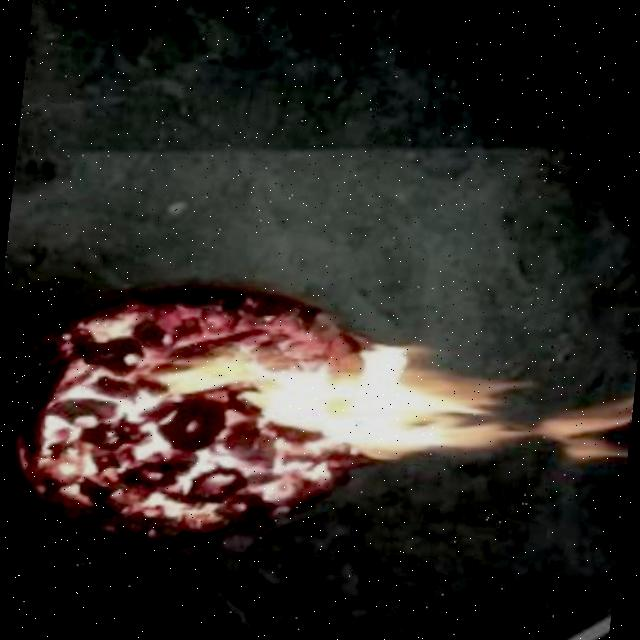fire: (127, 307, 638, 504), (13, 423, 365, 580)
